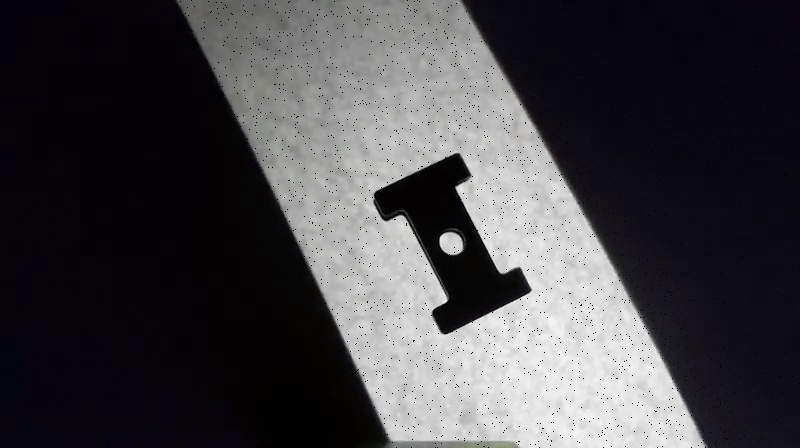O002: (371, 149, 534, 338)
